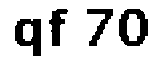0: (120, 8, 152, 49)
7: (83, 6, 113, 51)
f: (46, 6, 71, 50)
q: (9, 16, 44, 60)
